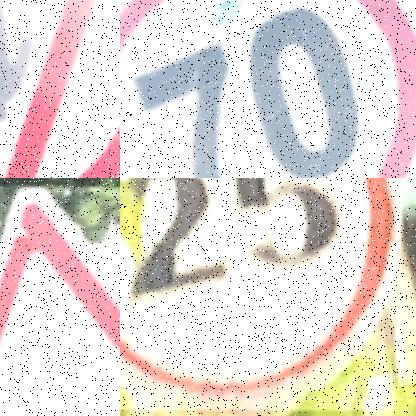Speed Breaker Ahead: (0, 187, 120, 416)
Speed Limit (25 kmph): (120, 178, 392, 409)
Speed Limit (70 kmph): (120, 0, 416, 178)
Stop: (0, 0, 120, 178)
